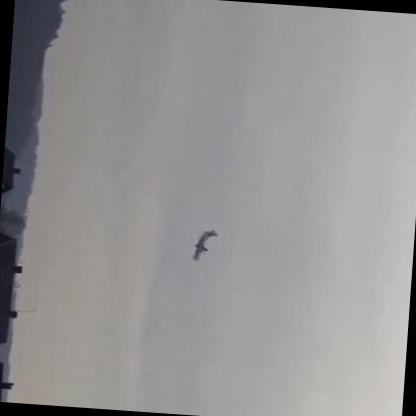plane: (192, 229, 216, 264)
